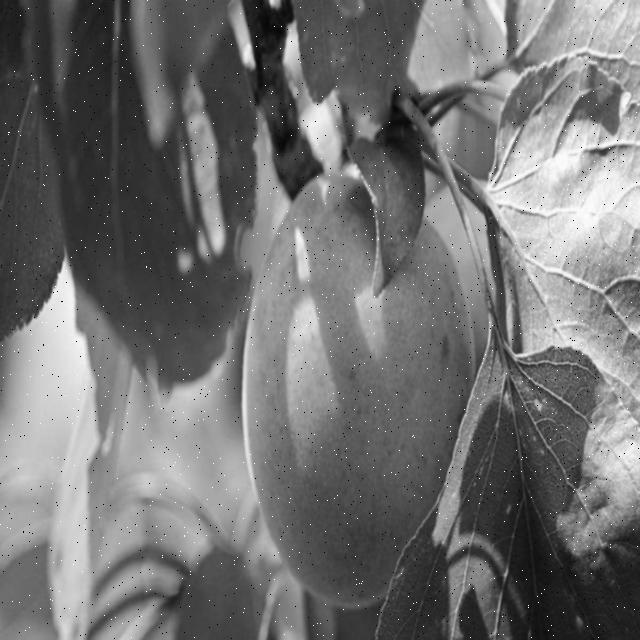Kayisi Cekirdegi: (245, 179, 471, 603)
Kayisi Yapragi: (378, 322, 639, 640), (345, 140, 422, 292)
